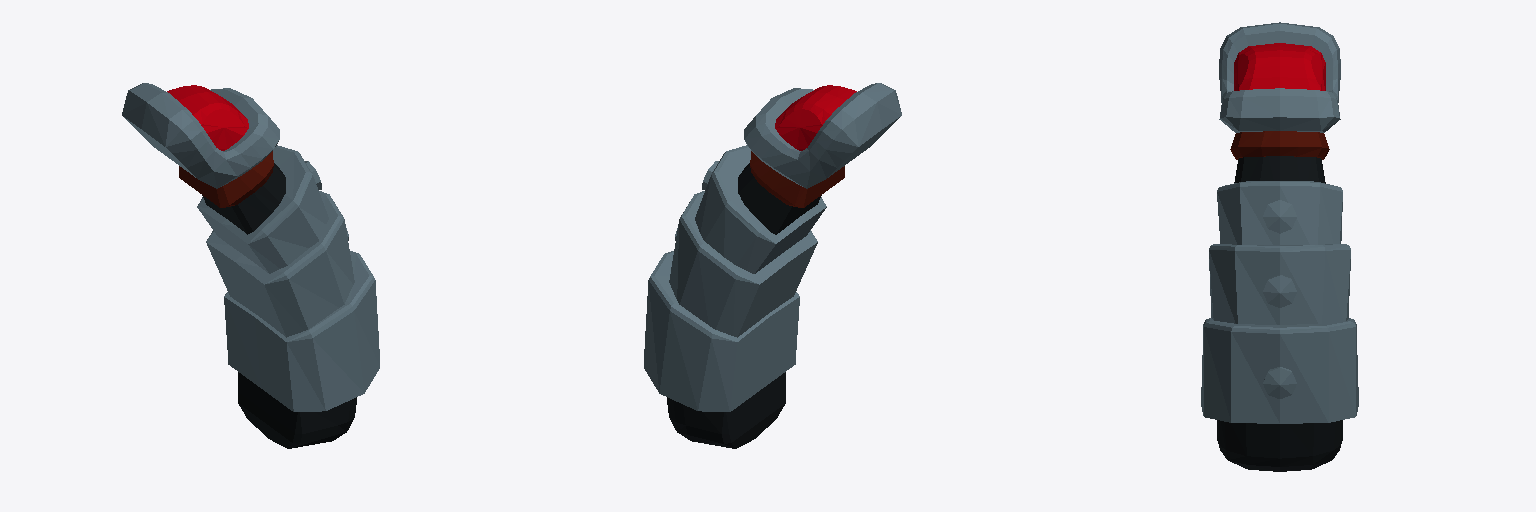
The model's file is character_warriorArmLeft.obj.
3 views of the same model, side by side, from view 1: azimuth 30°, elevation 25°; view 2: azimuth 150°, elevation 25°; view 3: azimuth 270°, elevation 25° (orthographic).
Parts seen in each view (by area): view 1: character_warriorArmLeft_Cube.6415; view 2: character_warriorArmLeft_Cube.6415; view 3: character_warriorArmLeft_Cube.6415.
Part boxes in pixels (left/top/right/bottom): character_warriorArmLeft_Cube.6415: left=122, top=83, right=379, bottom=448; character_warriorArmLeft_Cube.6415: left=644, top=83, right=901, bottom=448; character_warriorArmLeft_Cube.6415: left=1201, top=22, right=1358, bottom=471.
Bounding box in the file's own units: 0.3744 × 0.583 × 0.224.